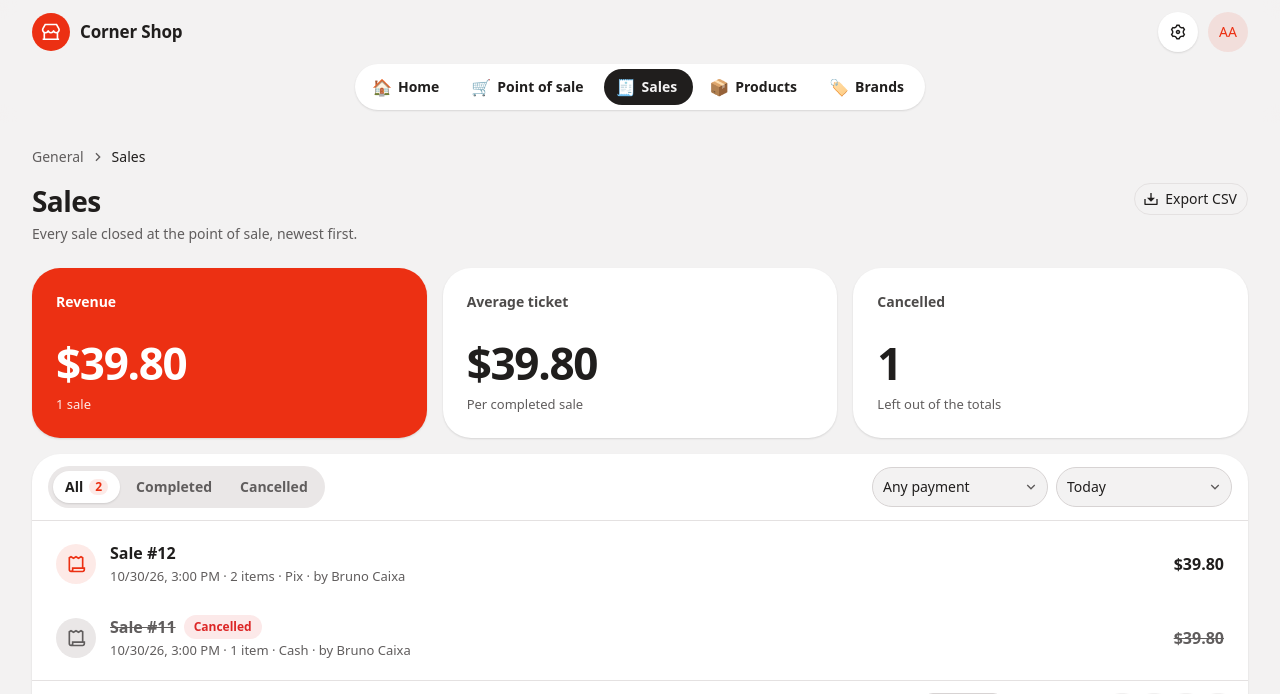
Test case: SalesPage › shows a sale without a cancel button for a cashier
Click the button with aria-label "Open sale #12".
click(76, 564)  # box [44,529,1236,599]
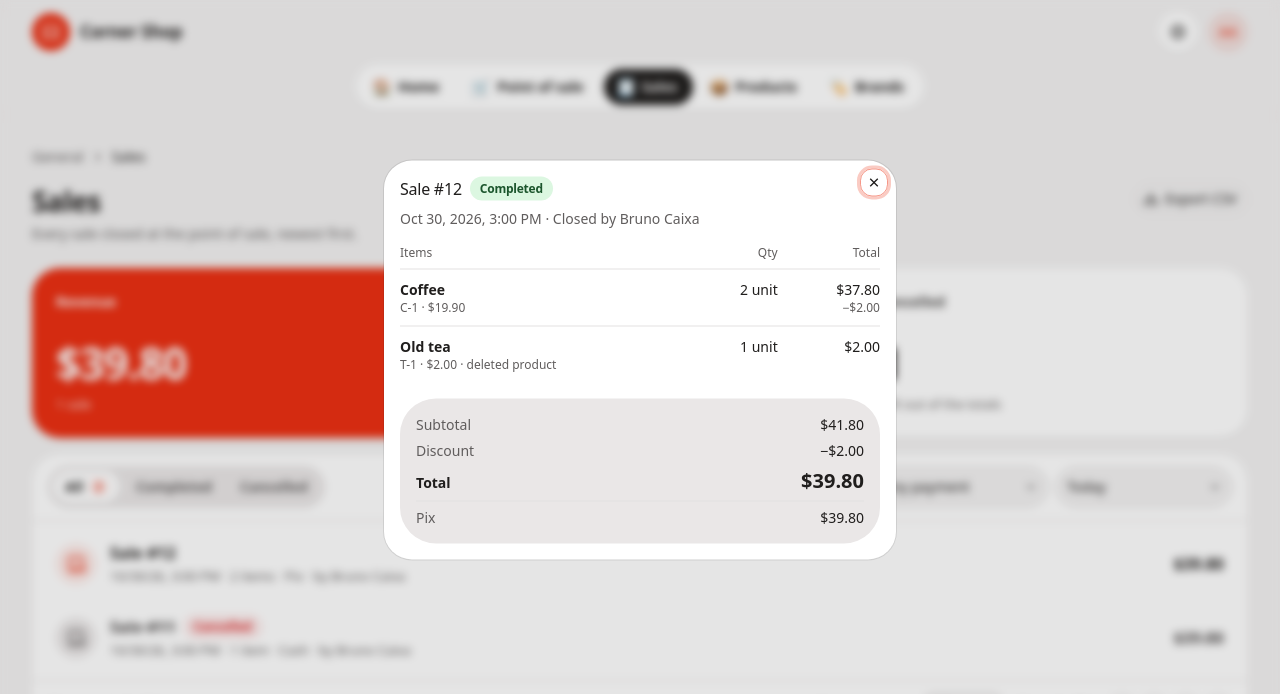
Result: the text "Coffee" is shown at [400,280,445,298]
Result: the text "T-1 · $2.00 · deleted product" is shown at [400,356,556,372]
Result: the text "−$2.00" is shown 2 times at [842,298,880,316]; [820,440,864,460]
